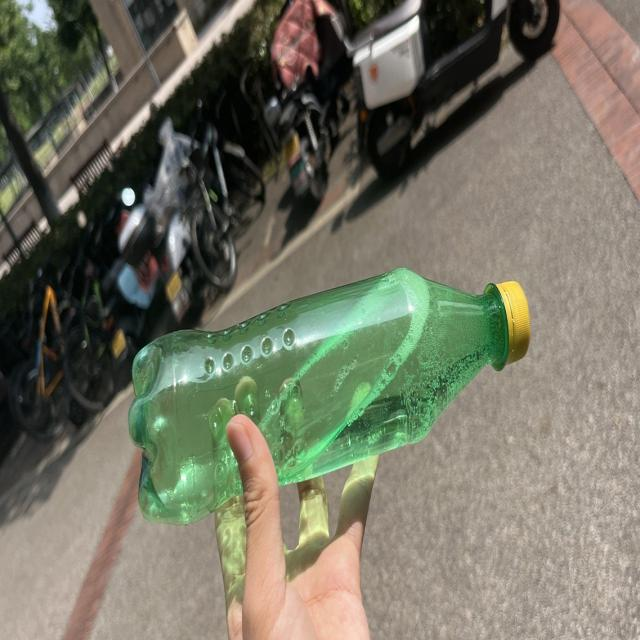medium: (129, 268, 530, 523)
